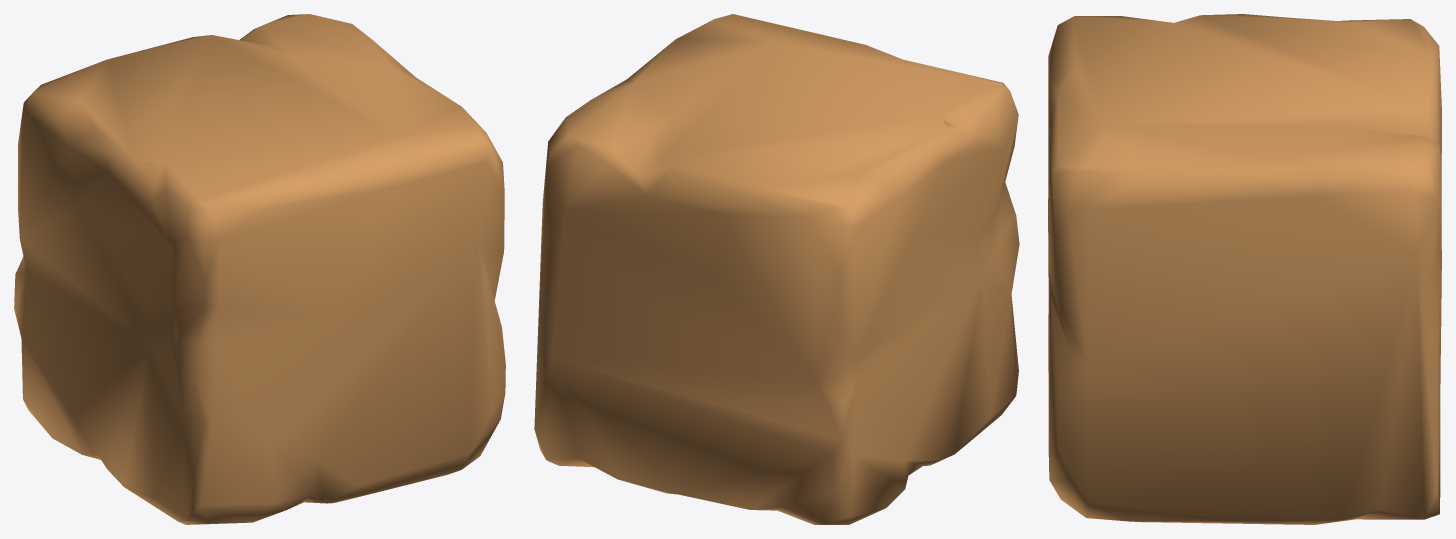
Rendered from Slab.FBX.
3 views of the same model, side by side, from view 1: azimuth 30°, elevation 25°; view 2: azimuth 150°, elevation 25°; view 3: azimuth 270°, elevation 25° (orthographic). The views are drawn at different scales.
Parts seen in each view (by area): view 1: Slab; view 2: Slab; view 3: Slab.
Boxes of the visible parts, <box> form: Slab: <box>14,14,505,524</box>; Slab: <box>534,14,1019,524</box>; Slab: <box>1048,14,1441,524</box>.
Size of the model in its own units: 50.17 by 50.03 by 50.3.
